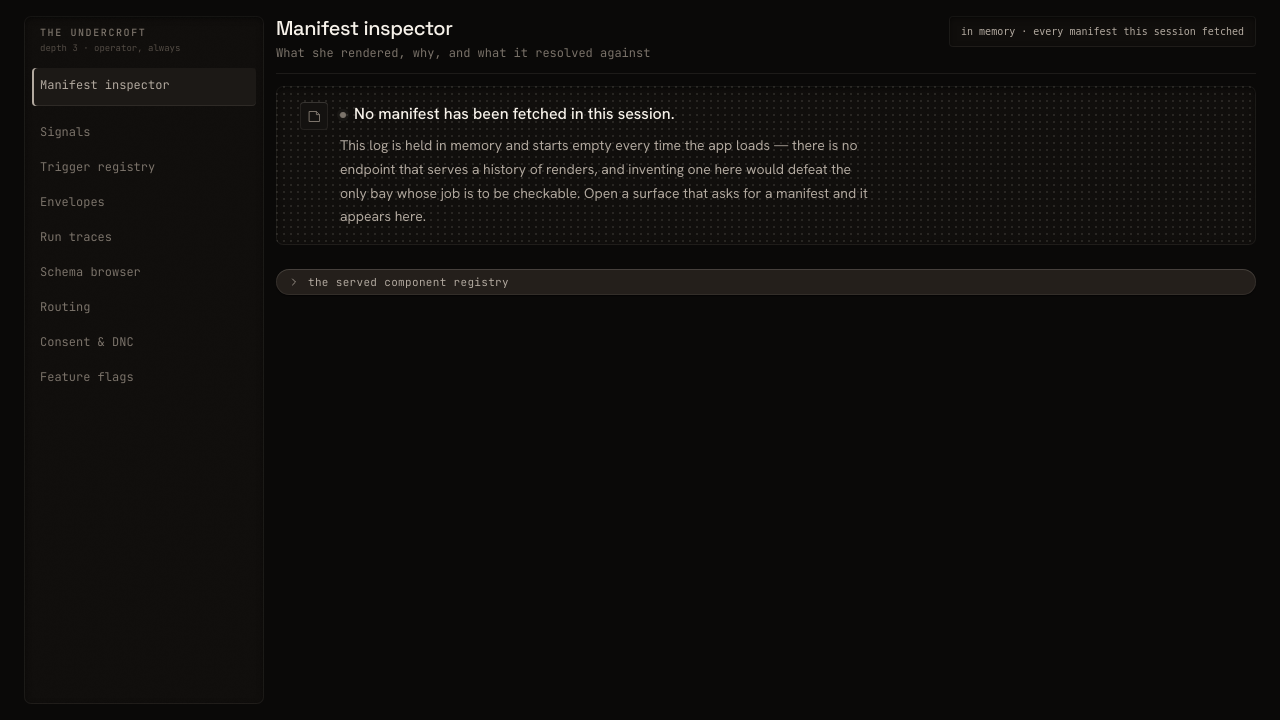
Test: W5 — the Undercroft names endpoints that answer › renders nothing, not a zero, for a signal nobody has consumed
Click the button "Signals" at (144, 132), box x1=32 y1=114 x2=256 y2=148
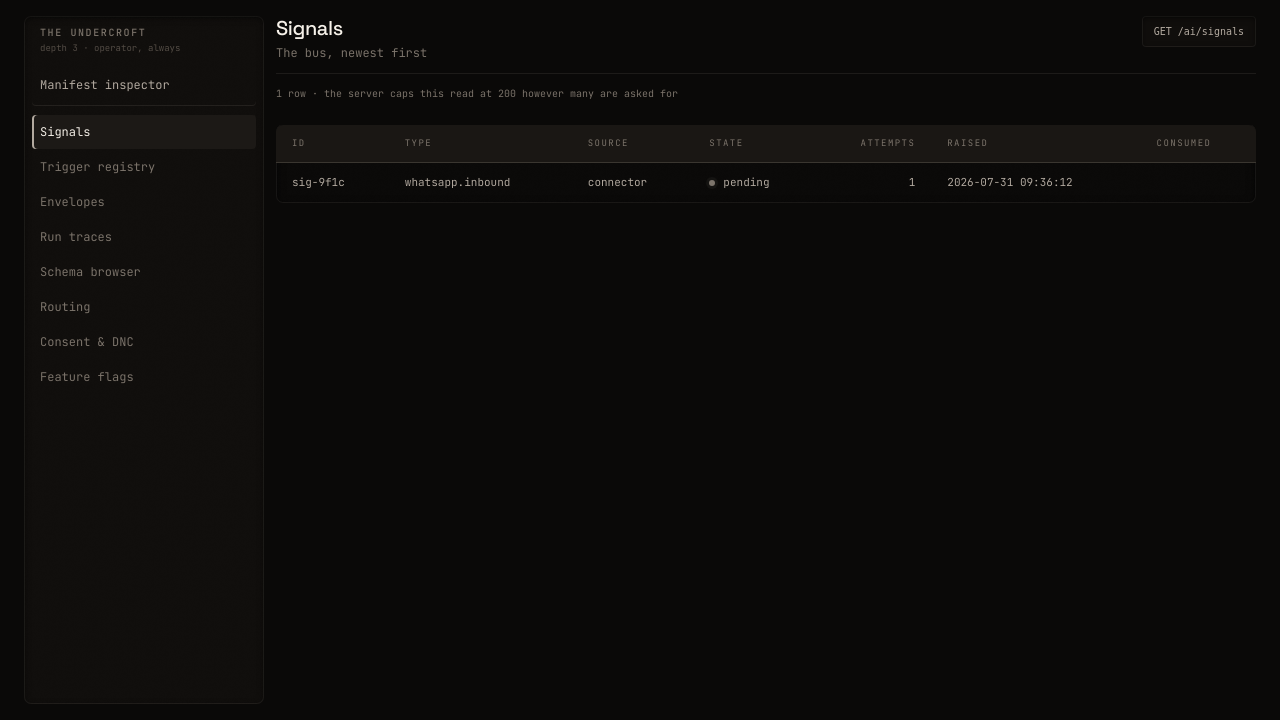
Check: the row that starts with "sig-9f1c" is shown, box x1=276 y1=162 x2=1256 y2=203
Check: the 7th cell is empty, box x1=1141 y1=162 x2=1256 y2=203
